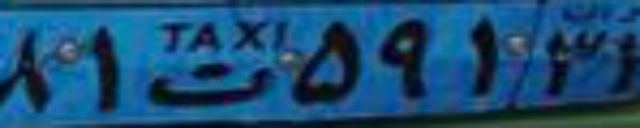1: (88, 24, 122, 111), (468, 16, 501, 95), (610, 30, 637, 96)
3: (544, 27, 604, 98)
5: (292, 19, 361, 105)
8: (0, 26, 53, 114)
9: (375, 16, 428, 100)
te: (146, 62, 273, 108)
